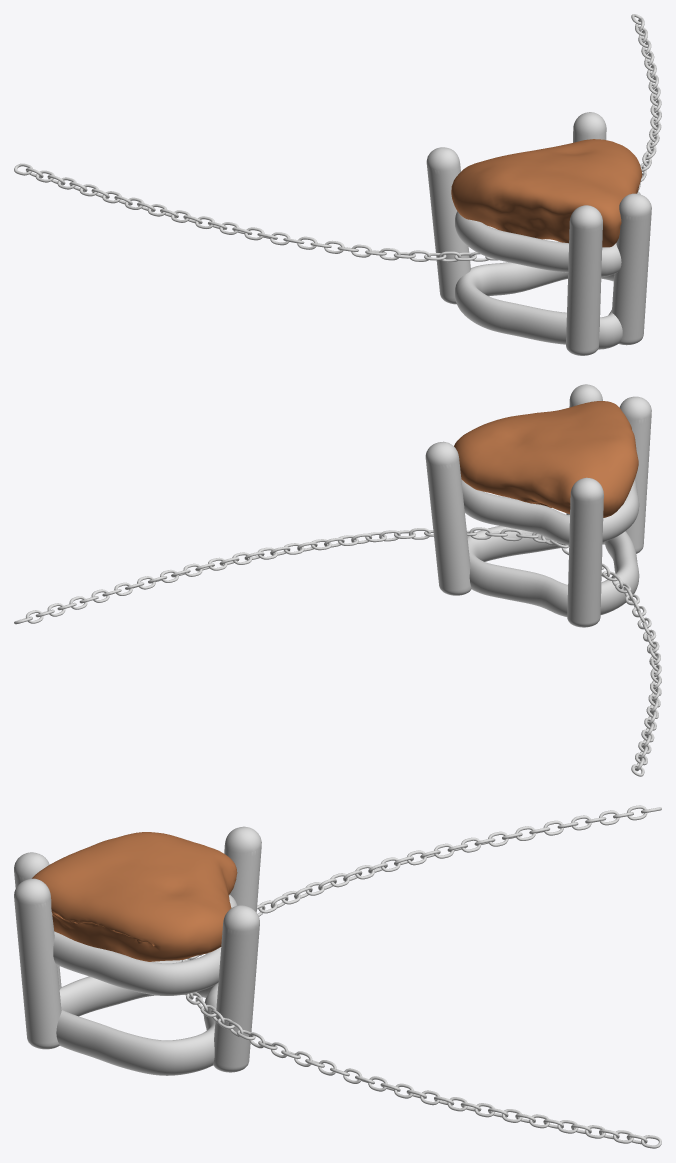
The model's file is PebbleNecklace.glb.
3 renders of one model, top to bottom at view 1: azimuth 30°, elevation 25°; view 2: azimuth 150°, elevation 25°; view 3: azimuth 270°, elevation 25°, orthographic. The views are drawn at different scales.
Parts seen in each view (by area): view 1: the_pebble, PT_prongs089, PT_prongs087, PT_prongs086, PT_prongs084, PT_prongs088, PT_prongs085; view 2: the_pebble, PT_prongs089, PT_prongs085, PT_prongs088, PT_prongs084, PT_prongs087; view 3: the_pebble, PT_prongs089, PT_prongs086, PT_prongs085, PT_prongs084, PT_prongs088, PT_prongs087.
Boxes of the visible parts, x1,y1,x2,y2 form: the_pebble: (451, 139, 642, 247); PT_prongs089: (455, 262, 622, 349); PT_prongs087: (566, 205, 602, 355); PT_prongs086: (612, 193, 651, 345); PT_prongs084: (455, 191, 640, 277); PT_prongs088: (426, 147, 470, 304); PT_prongs085: (573, 112, 606, 142); the_pebble: (454, 401, 638, 517); PT_prongs089: (467, 514, 639, 616); PT_prongs085: (425, 441, 471, 595); PT_prongs088: (567, 477, 603, 627); PT_prongs084: (461, 479, 639, 545); PT_prongs087: (619, 396, 651, 553); the_pebble: (32, 832, 237, 961); PT_prongs089: (56, 959, 218, 1075); PT_prongs086: (14, 878, 61, 1049); PT_prongs085: (213, 905, 259, 1072); PT_prongs084: (53, 894, 237, 995); PT_prongs088: (224, 826, 261, 912); PT_prongs087: (14, 852, 61, 989).
Bounding box in the file's own units: 3.06 × 0.7101 × 2.47.
